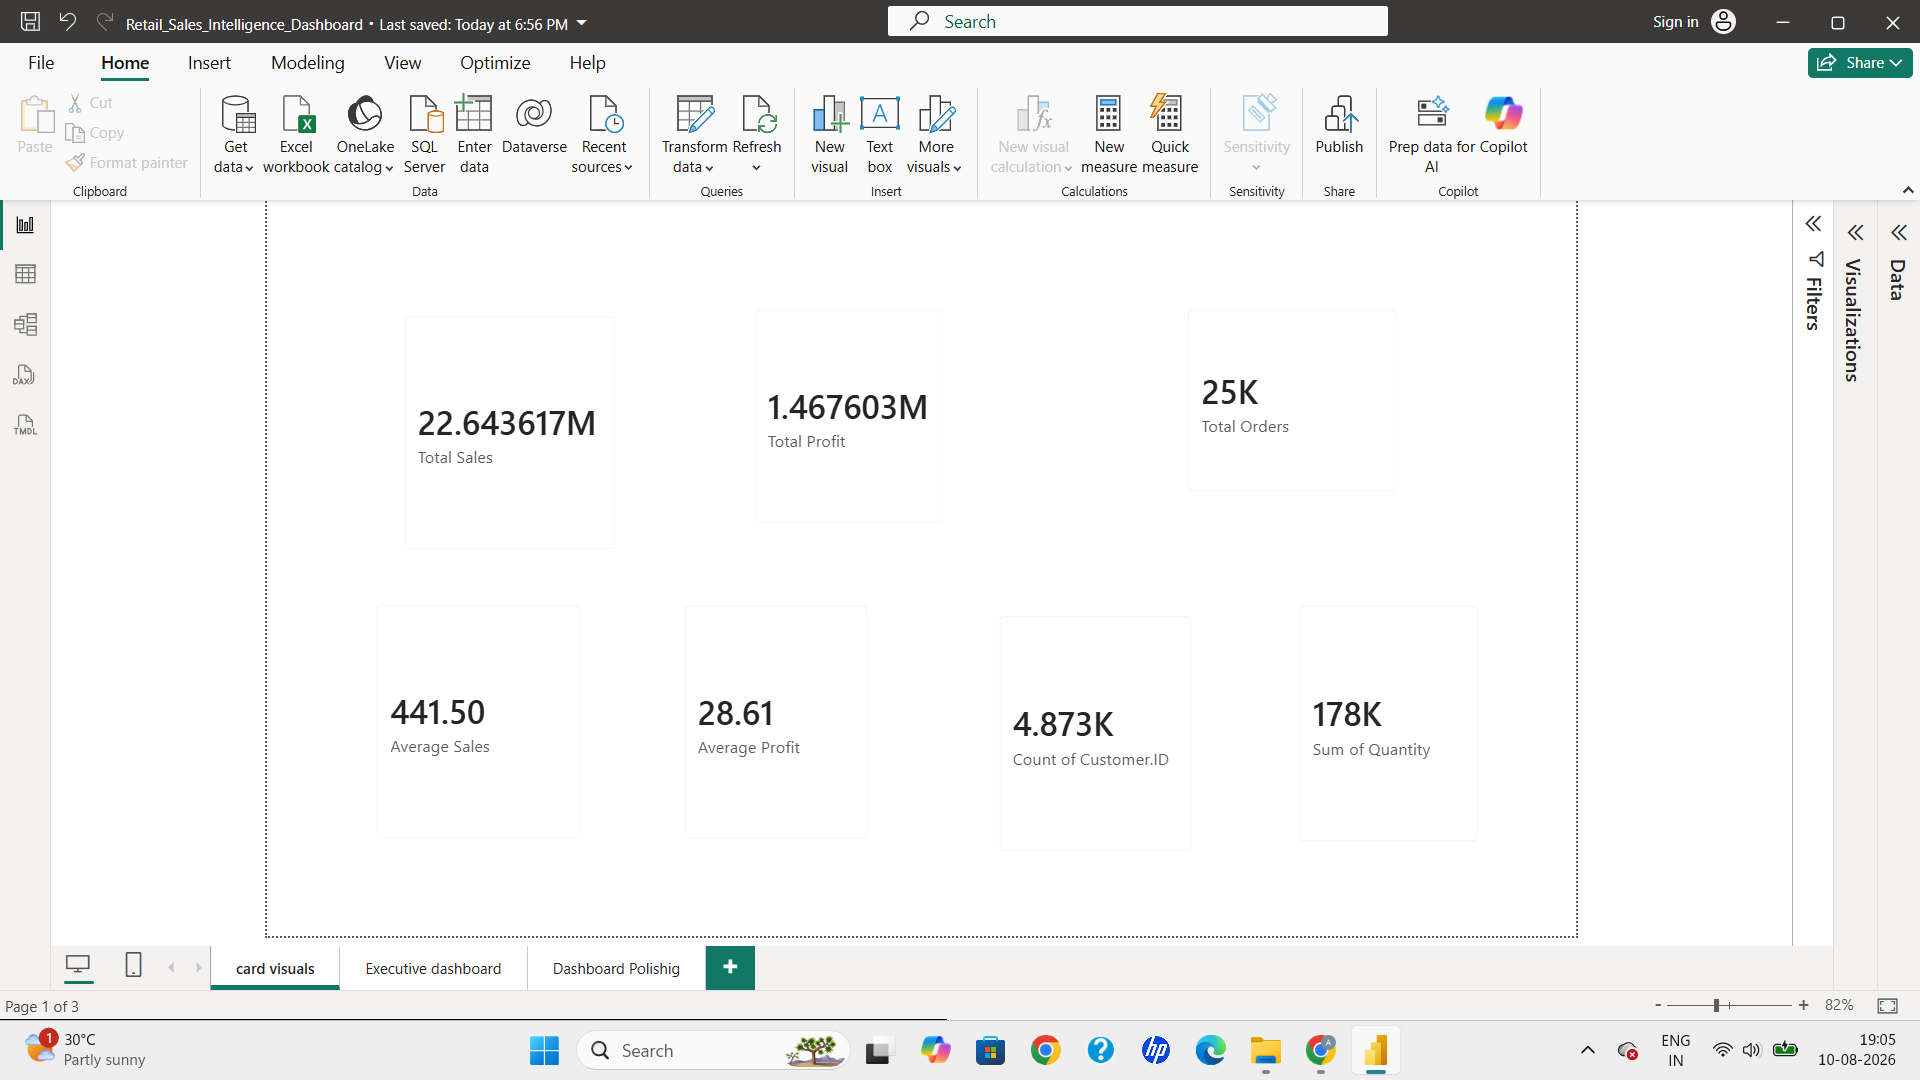

The dashboard page shown, as its layout file describes it:
{"tool":"powerbi","page":{"name":"card visuals","canvas":[1280,720],"ordinal":0},"visuals":[{"type":"cardVisual","fields":{"Data":["Sales_Data.Total Sales"]},"box":[117.4,96.6,240.9,262.9],"z":0},{"type":"cardVisual","fields":{"Data":["Sales_Data.Total Profit"]},"box":[459.8,90.5,220.1,243.3],"z":1000},{"type":"cardVisual","fields":{"Data":["Sales_Data.Total Orders"]},"box":[884.1,90.5,237.2,212.8],"z":2000},{"type":"cardVisual","fields":{"Data":["Sales_Data.Average Sales"]},"box":[90.5,379.1,233.6,262.9],"z":3000},{"type":"cardVisual","fields":{"Data":["Sales_Data.Average Profit"]},"box":[391.3,380.3,214,262.9],"z":4000},{"type":"cardVisual","fields":{"Data":["Count(Sales_Data.Customer.ID)"]},"box":[699.5,390.1,222.6,264.1],"z":5000},{"type":"cardVisual","fields":{"Data":["Sum(Sales_Data.Quantity)"]},"box":[992.9,380.3,209.1,264.1],"z":6000}]}

Visuals, with their boxes on the page's 1280x720 design canvas (x1, y1, x2, y2). These are canvas units, not pixel positions in the 1920x1080 screenshot, which may show the page scaled, cropped or inside an application window:
cardVisual - Sales_Data.Total Sales: (117,97,358,360)
cardVisual - Sales_Data.Total Profit: (460,90,680,334)
cardVisual - Sales_Data.Total Orders: (884,90,1121,303)
cardVisual - Sales_Data.Average Sales: (90,379,324,642)
cardVisual - Sales_Data.Average Profit: (391,380,605,643)
cardVisual - Count(Sales_Data.Customer.ID): (700,390,922,654)
cardVisual - Sum(Sales_Data.Quantity): (993,380,1202,644)
